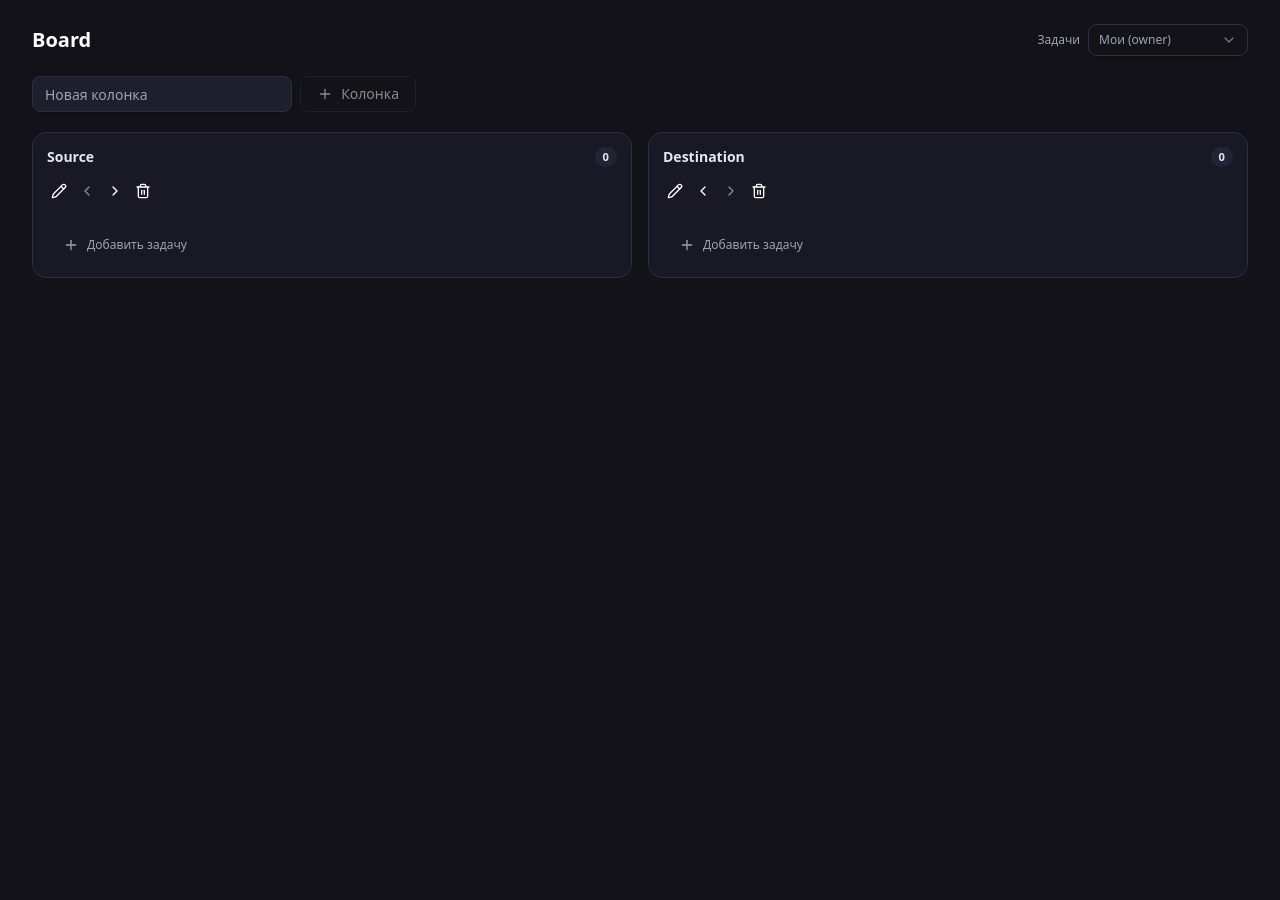
Scenario: requires a destination and transfers tasks hidden by the active filter
Click the button named "Удалить колонку" below "Source" at point(143, 191), box [131, 179, 155, 203]
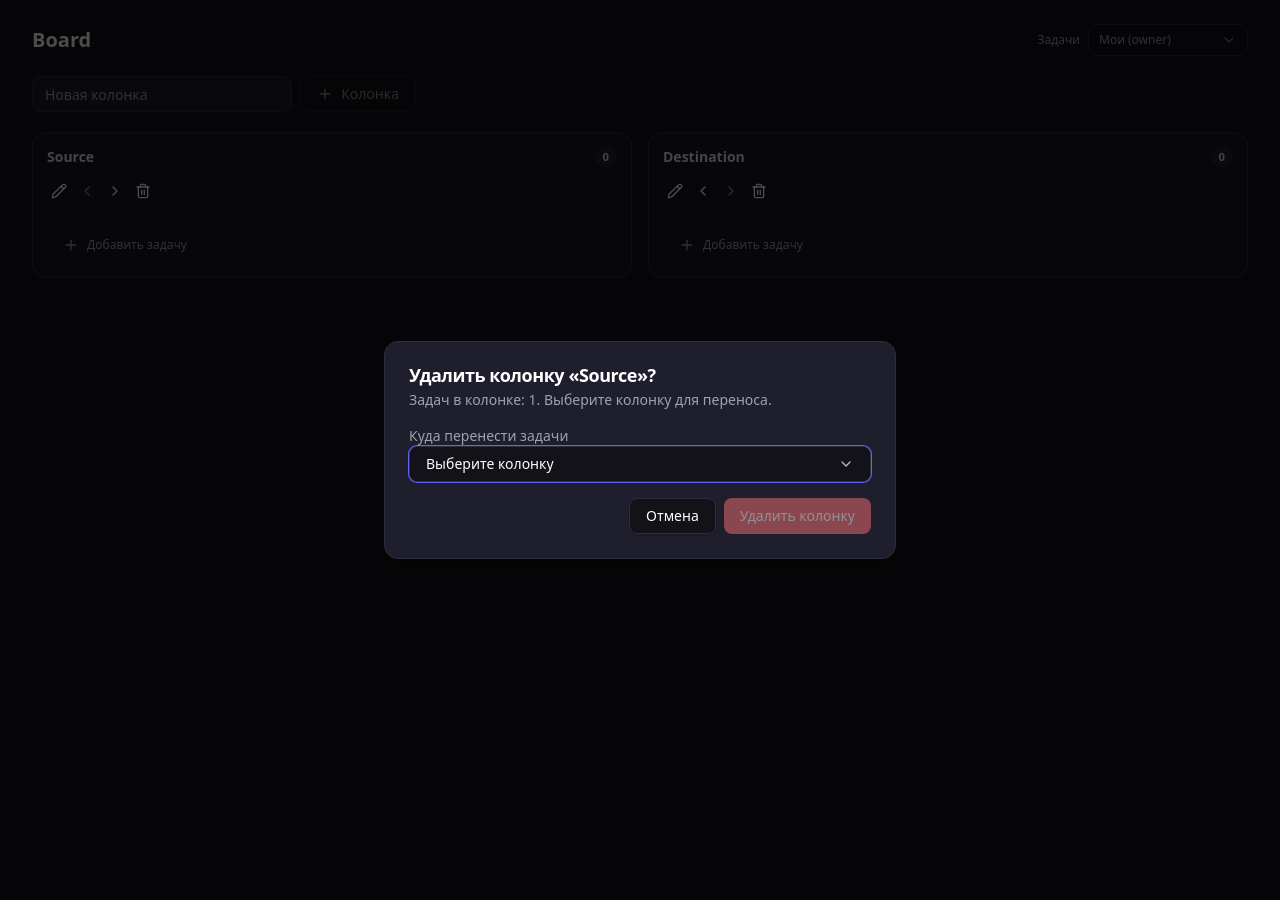
Result: the button "Удалить колонку" is disabled at [724, 498, 871, 534]
Click the button with aria-label "Колонка для переноса задач" at point(490, 464), box [409, 446, 871, 482]
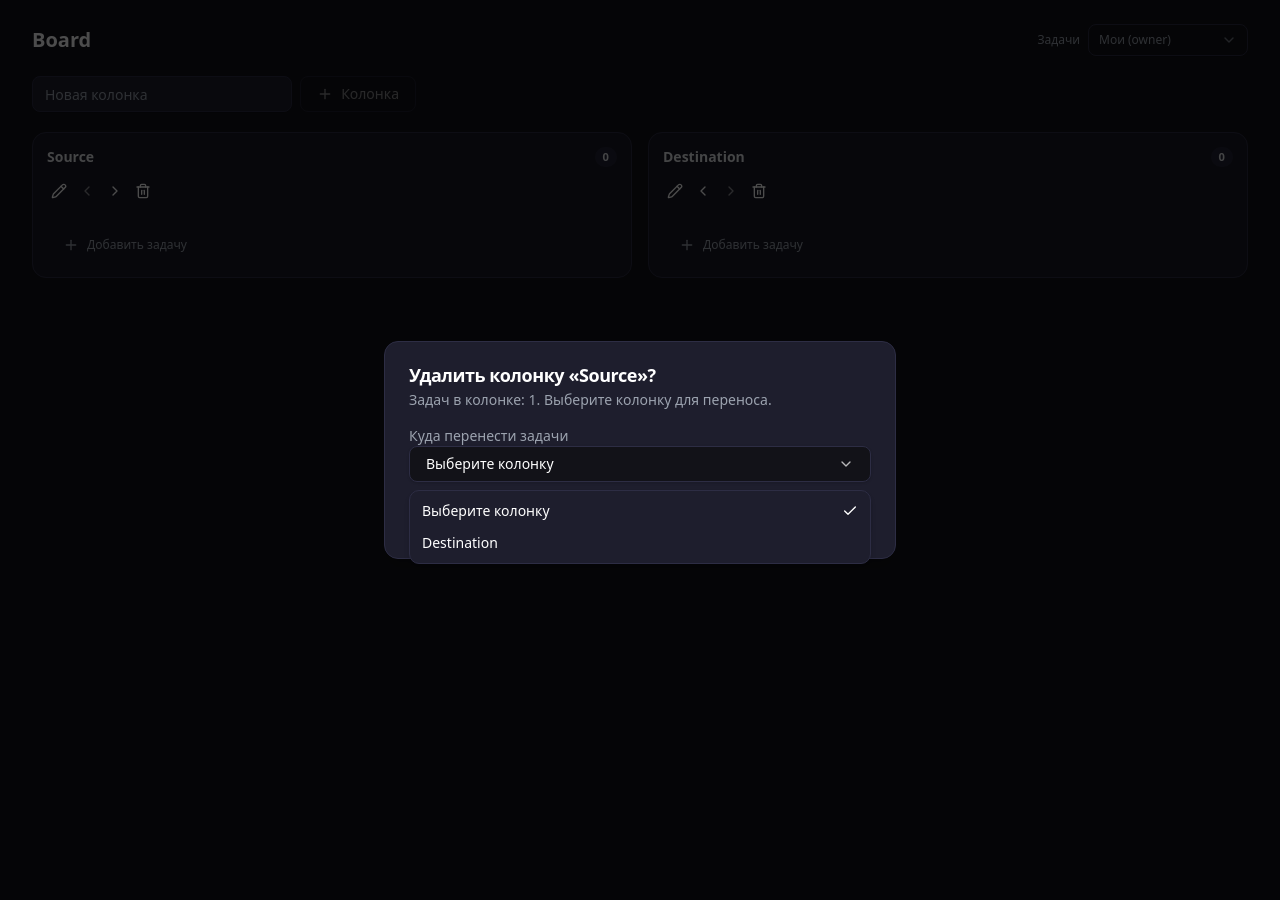
Click the menu item "Destination" at point(460, 542), box [422, 533, 498, 552]
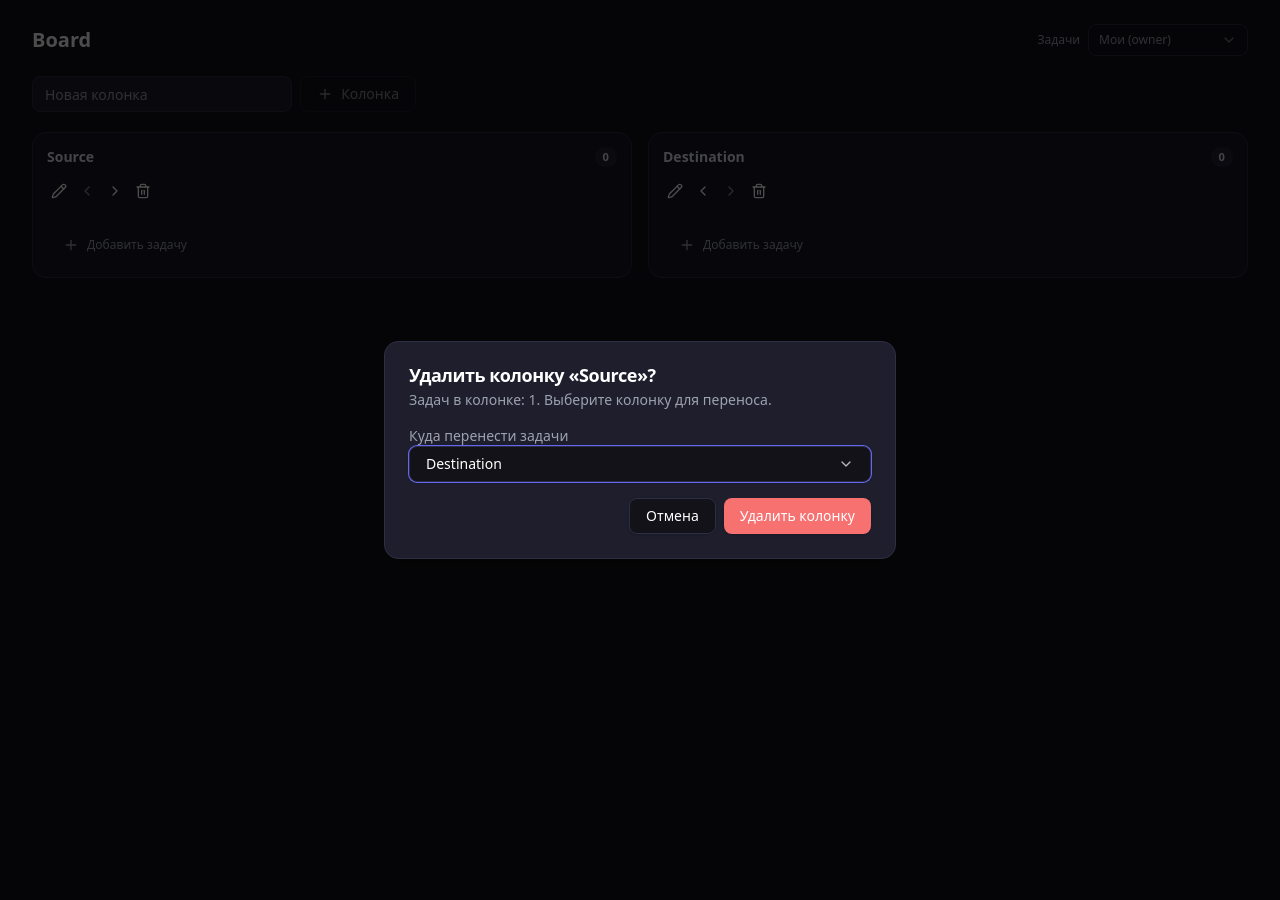
Click the button "Удалить колонку" at point(797, 516), box [724, 498, 871, 534]
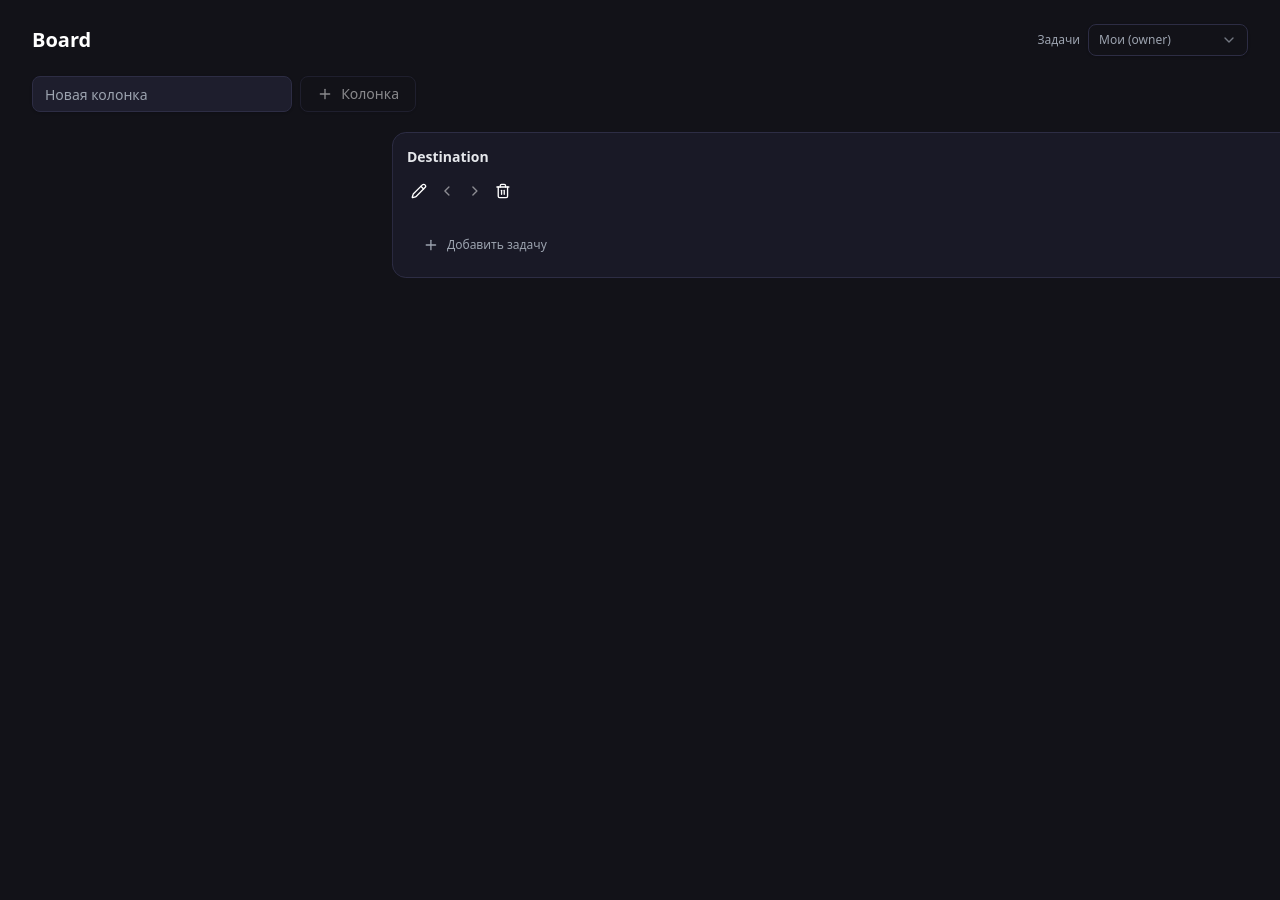
Result: the dialog is gone
